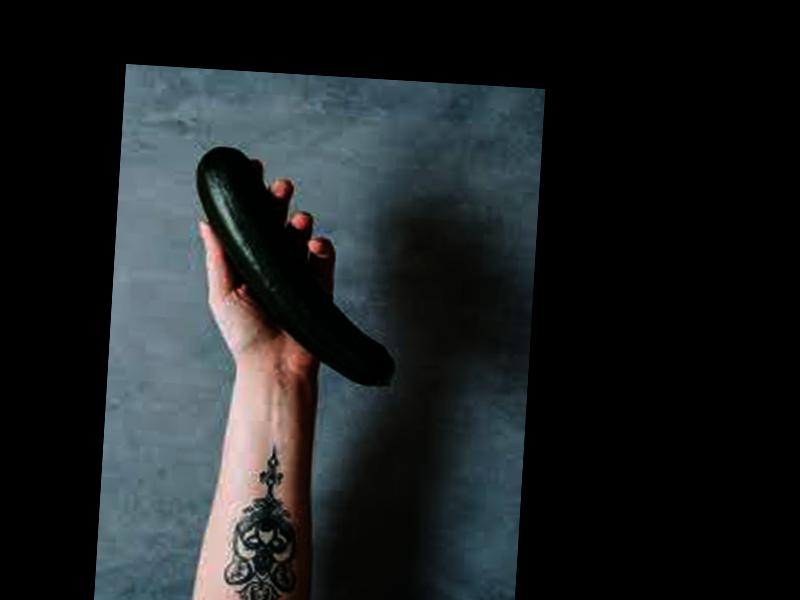Cucumber: (186, 145, 405, 385)
